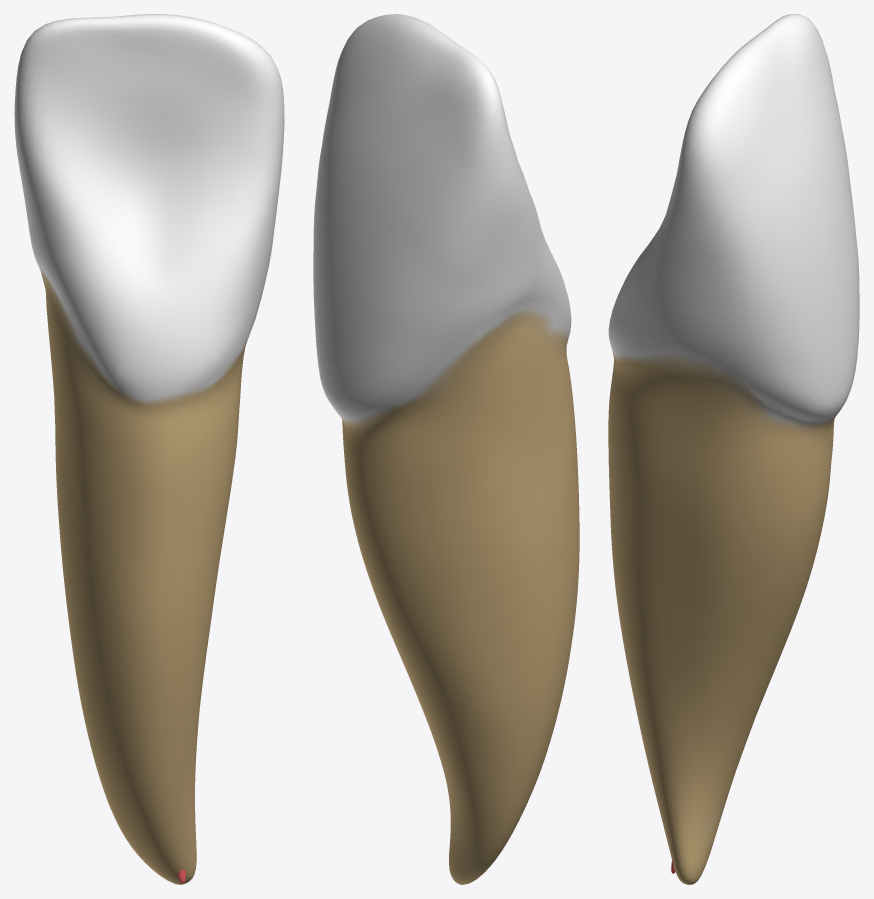
3 renders of one model, left to right at view 1: azimuth 30°, elevation 25°; view 2: azimuth 150°, elevation 25°; view 3: azimuth 270°, elevation 25°, orthographic. The views are drawn at different scales.
Visible parts, largest first — view 1: outer; view 2: outer; view 3: outer.
Part boxes in pixels (x1,y1,x2,y2): outer: [14, 14, 284, 884]; outer: [313, 14, 579, 884]; outer: [608, 14, 859, 884].
Size of the model in its own units: 2.47 by 9.13 by 2.48.
3 materials, 1 textured.
